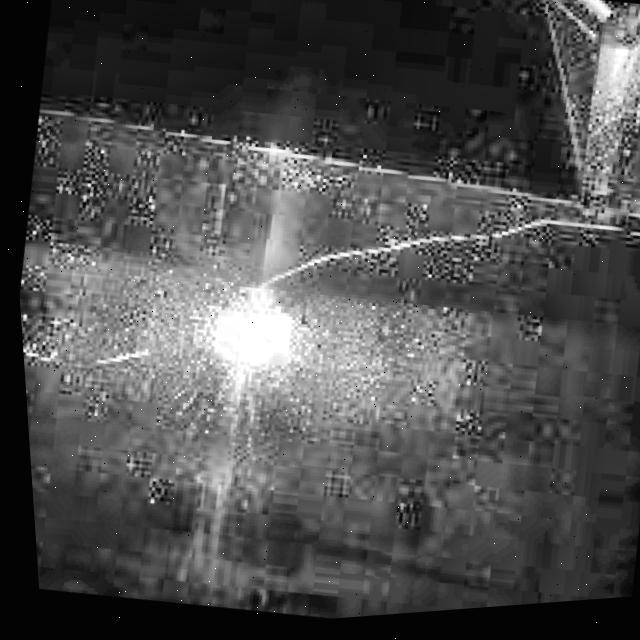door_scratch: (270, 161, 569, 327)
